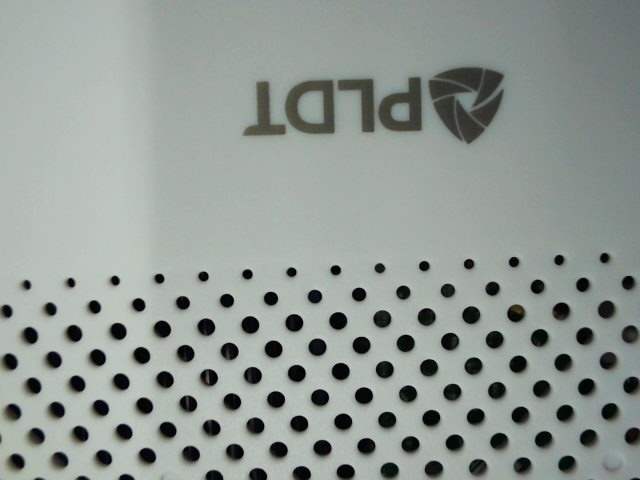BH_PLDT: (230, 51, 522, 166)
